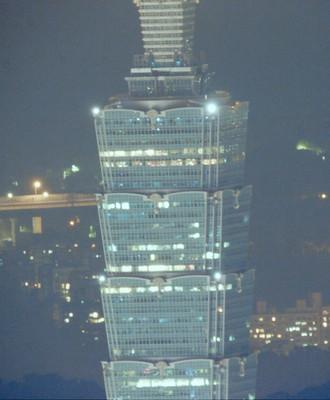building: (86, 0, 264, 400)
